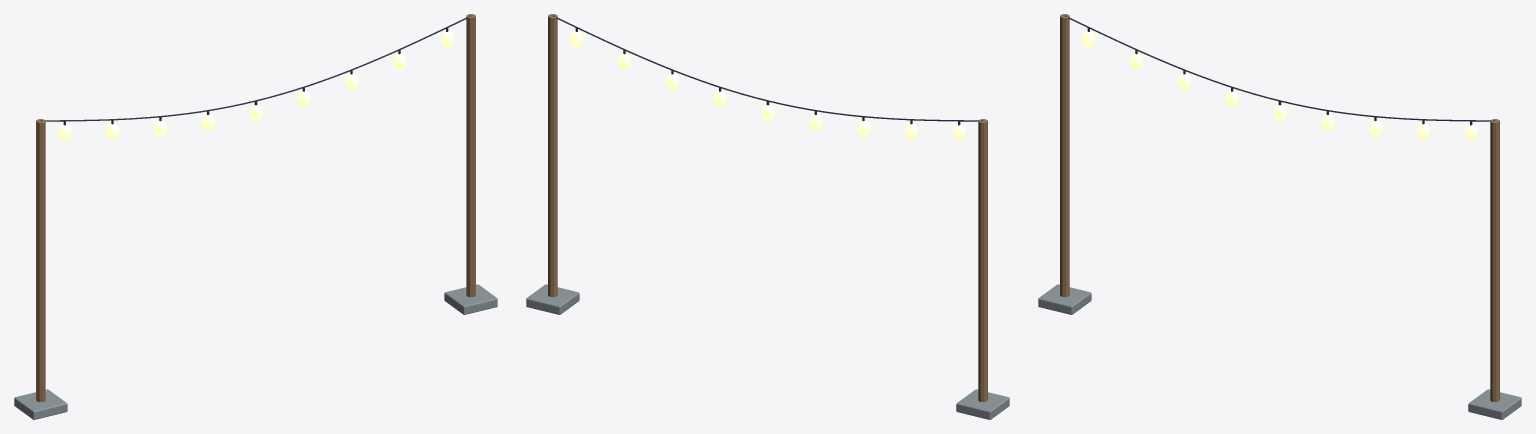
Rendered from AH03_StringLights.fbx.
3 renders of one model, left to right at view 1: azimuth 30°, elevation 25°; view 2: azimuth 150°, elevation 25°; view 3: azimuth 330°, elevation 25°, orthographic.
Parts seen in each view (by area): view 1: AH03_StringLights_AH03_Wood, AH03_StringLights_AH03_Metal, AH03_StringLights_AH03_StageGlowGold, AH03_StringLights_AH03_Dark; view 2: AH03_StringLights_AH03_Wood, AH03_StringLights_AH03_Metal, AH03_StringLights_AH03_StageGlowGold, AH03_StringLights_AH03_Dark; view 3: AH03_StringLights_AH03_Wood, AH03_StringLights_AH03_Metal, AH03_StringLights_AH03_StageGlowGold, AH03_StringLights_AH03_Dark.
Boxes of the visible parts, x1,y1,x2,y2 form: AH03_StringLights_AH03_Wood: [36, 14, 475, 402]; AH03_StringLights_AH03_Metal: [14, 284, 497, 419]; AH03_StringLights_AH03_StageGlowGold: [58, 31, 453, 140]; AH03_StringLights_AH03_Dark: [40, 15, 470, 125]; AH03_StringLights_AH03_Wood: [548, 14, 987, 402]; AH03_StringLights_AH03_Metal: [526, 284, 1009, 419]; AH03_StringLights_AH03_StageGlowGold: [570, 31, 965, 140]; AH03_StringLights_AH03_Dark: [553, 15, 983, 125]; AH03_StringLights_AH03_Wood: [1060, 14, 1499, 402]; AH03_StringLights_AH03_Metal: [1038, 284, 1521, 419]; AH03_StringLights_AH03_StageGlowGold: [1082, 31, 1477, 140]; AH03_StringLights_AH03_Dark: [1065, 15, 1495, 125].
Size of the model in its own units: 540 by 321 by 40.
